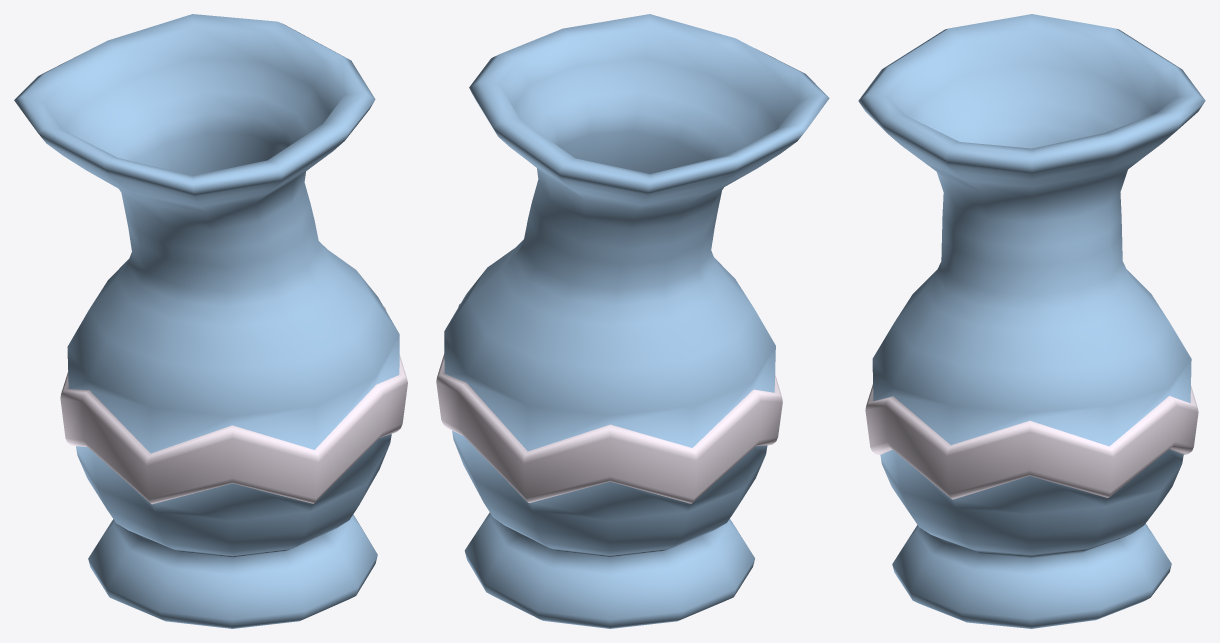
File: Props_Vase.fbx
The picture shows the model from 3 angles, left to right: view 1: azimuth 30°, elevation 25°; view 2: azimuth 150°, elevation 25°; view 3: azimuth 270°, elevation 25°; orthographic projection. The views are drawn at different scales.
Parts seen in each view (by area): view 1: Vase; view 2: Vase; view 3: Vase.
Boxes of the visible parts, box(x1,y1,x2,y2) form: Vase: box(14, 14, 407, 628); Vase: box(436, 14, 829, 628); Vase: box(858, 14, 1205, 628).
Size of the model in its own units: 53.93 by 73.99 by 48.29.
